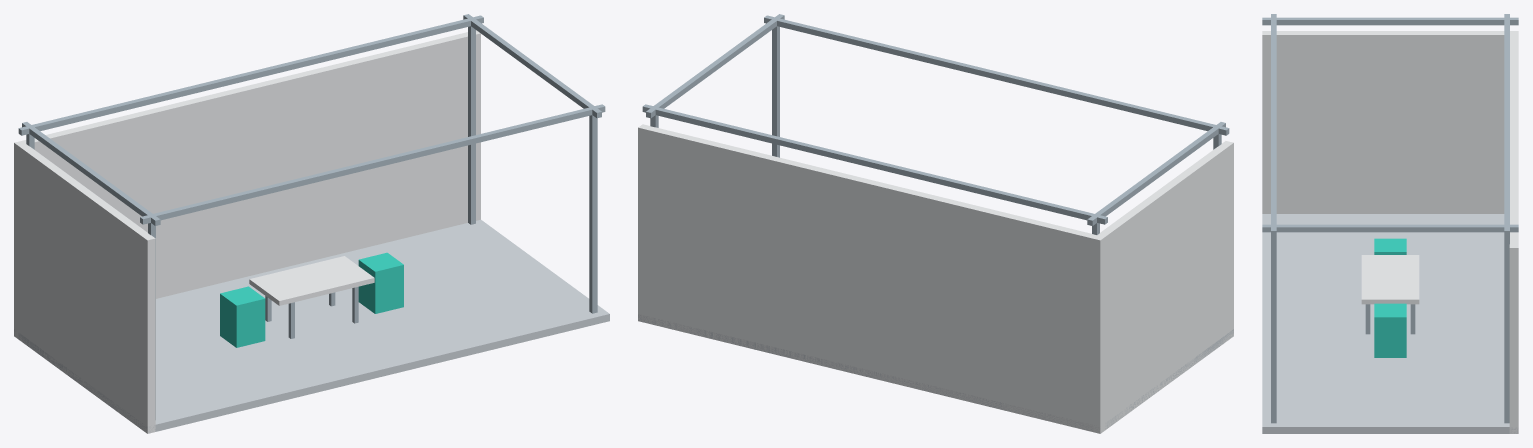
3 renders of one model, left to right at view 1: azimuth 30°, elevation 25°; view 2: azimuth 150°, elevation 25°; view 3: azimuth 270°, elevation 25°, orthographic. The views are drawn at different scales.
Visible parts, largest first — view 1: Exhibition Booth Concept; view 2: Exhibition Booth Concept; view 3: Exhibition Booth Concept.
Boxes of the visible parts, x1=… form: Exhibition Booth Concept: x1=14, y1=14, x2=609, y2=433; Exhibition Booth Concept: x1=638, y1=14, x2=1233, y2=433; Exhibition Booth Concept: x1=1262, y1=14, x2=1518, y2=433.
Bounding box in the file's own units: 8 × 3.49 × 4.
